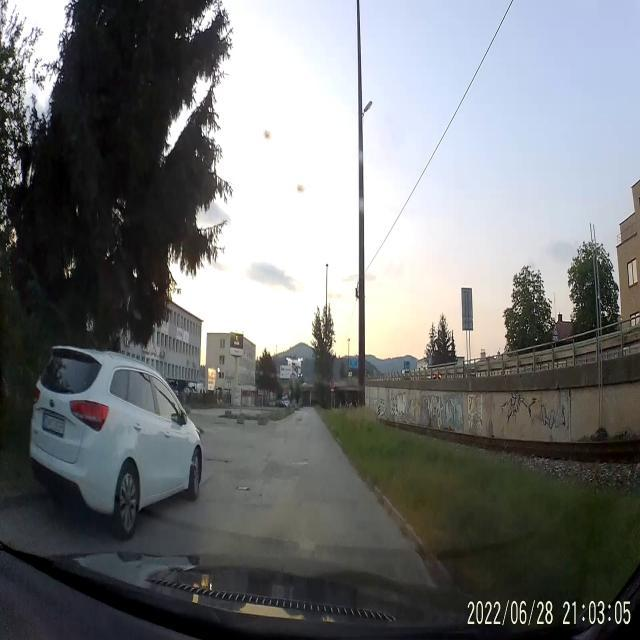Manhole: (291, 458, 311, 469), (234, 482, 254, 492)
